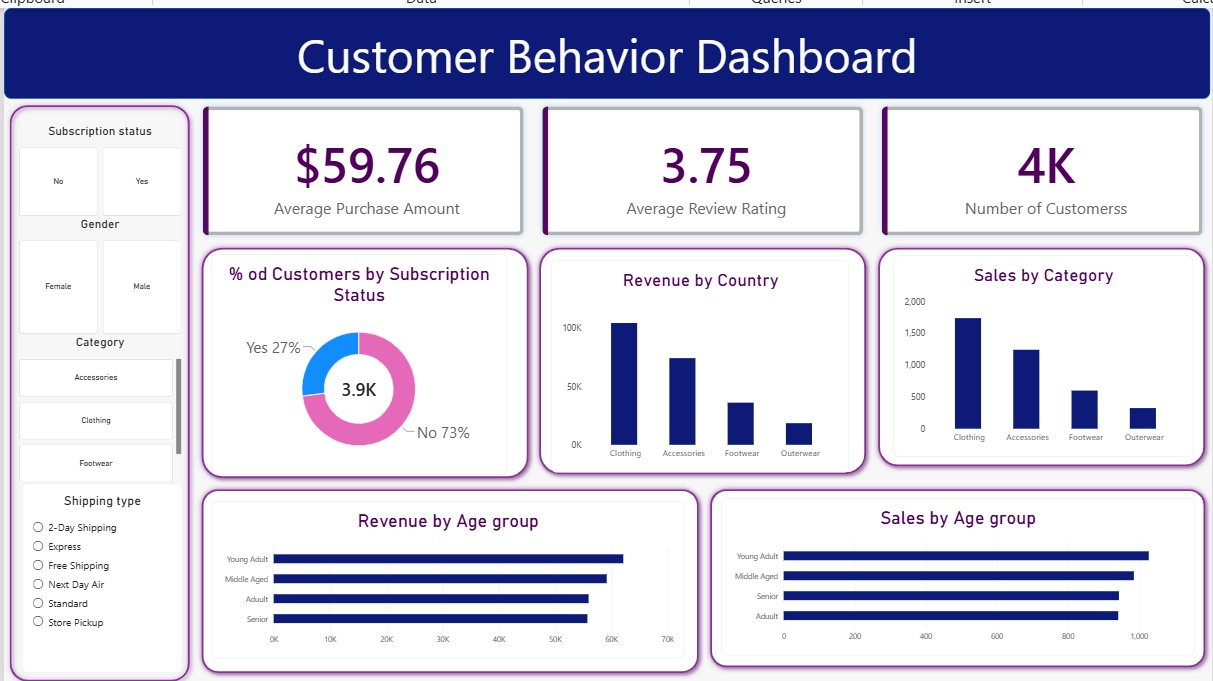

Layout of this report page (visuals, bound fields, positions):
{"tool":"powerbi","page":{"name":"Page 1","canvas":[1920,1080],"ordinal":0},"visuals":[{"type":"cardVisual","fields":{"Data":["customer_behavior customer.Average Purchase Amount","customer_behavior customer.Average Review Rating","customer_behavior customer.Number of Customerss"]},"box":[304.5,144.5,1614.5,227.6],"z":0},{"type":"shape","box":[0,0,1919,144.5],"z":1000},{"type":"shape","box":[842.6,372.1,538.2,378.3],"z":2000},{"type":"shape","box":[304.5,372.1,538.2,384.4],"z":3000},{"type":"shape","box":[1380.8,372.1,538.2,366],"z":4000},{"type":"donutChart","title":"% od Customers by Subscription Status","fields":{"Category":["customer_behavior customer.subscription_status"],"Y":["CountNonNull(customer_behavior customer.customer_id)"]},"box":[329.1,390.6,470.5,350.6],"z":5000},{"type":"clusteredColumnChart","title":"Revenue by Country","fields":{"Category":["customer_behavior customer.category"],"Y":["Sum(customer_behavior customer.purchase_amount)"]},"box":[870.3,399.8,473.6,338.3],"z":6000},{"type":"clusteredColumnChart","title":"Sales by Category","fields":{"Category":["customer_behavior customer.category"],"Y":["CountNonNull(customer_behavior customer.customer_id)"]},"box":[1414.6,393.6,476.7,319.8],"z":7000},{"type":"shape","box":[0,144.5,304.5,934.9],"z":8000},{"type":"advancedSlicerVisual","title":"Subscription status","fields":{"Values":["customer_behavior customer.subscription_status"]},"box":[24.6,184.5,258.3,147.6],"z":9000},{"type":"advancedSlicerVisual","title":"Gender","fields":{"Values":["customer_behavior customer.gender"]},"box":[24.6,332.1,258.3,187.6],"z":10000},{"type":"advancedSlicerVisual","title":"Category","fields":{"Values":["customer_behavior customer.category"]},"box":[24.6,519.7,258.3,236.8],"z":11000},{"type":"listSlicer","title":"Shipping type","fields":{"Values":["customer_behavior customer.shipping_type"]},"box":[27.7,756.5,255.3,301.4],"z":12000},{"type":"shape","box":[304.5,756.5,808.8,310.6],"z":13000},{"type":"shape","box":[1113.3,756.5,805.7,301.4],"z":14000},{"type":"clusteredBarChart","title":"Revenue by Age group ","fields":{"Category":["customer_behavior customer.age_group"],"Y":["Sum(customer_behavior customer.purchase_amount)"]},"box":[329.1,784.2,753.4,249.1],"z":14001},{"type":"clusteredBarChart","title":"Sales by Age group ","fields":{"Category":["customer_behavior customer.age_group"],"Y":["CountNonNull(customer_behavior customer.customer_id)"]},"box":[1140.9,781.1,753.4,249.1],"z":14002}]}

Visuals, with their boxes in screenshot pixels (x1, y1, x2, y2):
cardVisual - customer_behavior customer.Average Purchase Amount x customer_behavior customer.Average Review Rating: <bbox>196, 93, 1202, 235</bbox>
shape: <bbox>6, 3, 1202, 93</bbox>
shape: <bbox>531, 235, 867, 471</bbox>
shape: <bbox>196, 235, 531, 474</bbox>
shape: <bbox>867, 235, 1202, 463</bbox>
"% od Customers by Subscription Status" donutChart: <bbox>211, 247, 505, 465</bbox>
"Revenue by Country" clusteredColumnChart: <bbox>549, 252, 844, 463</bbox>
"Sales by Category" clusteredColumnChart: <bbox>888, 248, 1185, 448</bbox>
shape: <bbox>6, 93, 196, 676</bbox>
"Subscription status" advancedSlicerVisual: <bbox>22, 118, 183, 210</bbox>
"Gender" advancedSlicerVisual: <bbox>22, 210, 183, 327</bbox>
"Category" advancedSlicerVisual: <bbox>22, 327, 183, 474</bbox>
"Shipping type" listSlicer: <bbox>24, 474, 183, 662</bbox>
shape: <bbox>196, 474, 700, 668</bbox>
shape: <bbox>700, 474, 1202, 662</bbox>
"Revenue by Age group " clusteredBarChart: <bbox>211, 492, 681, 647</bbox>
"Sales by Age group " clusteredBarChart: <bbox>717, 490, 1187, 645</bbox>
